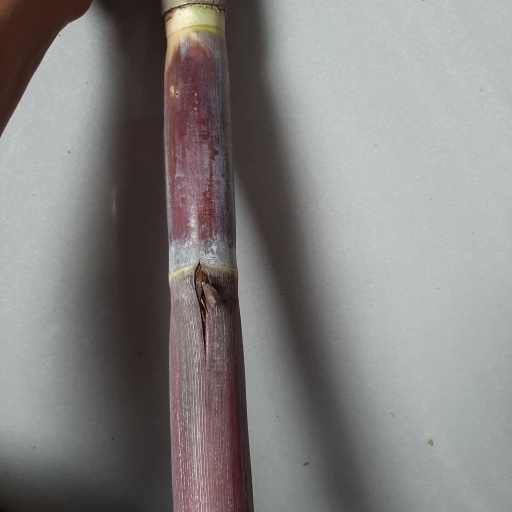Damage_Bud: (193, 265, 217, 333)
